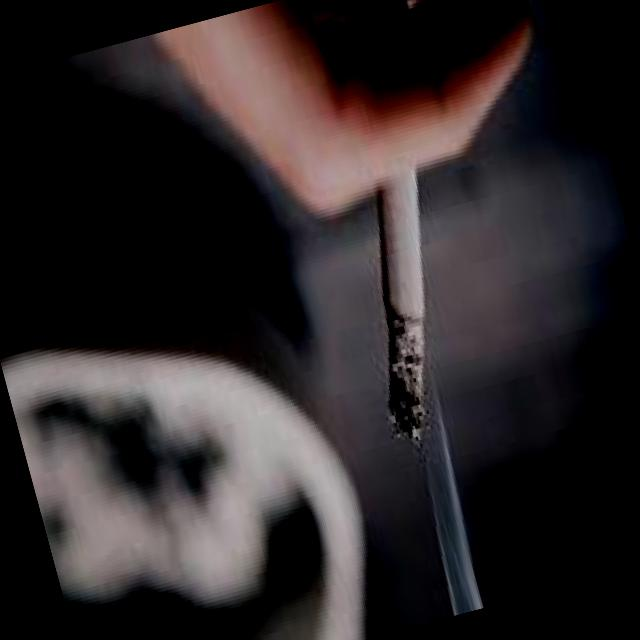cigarette: (321, 168, 486, 455)
